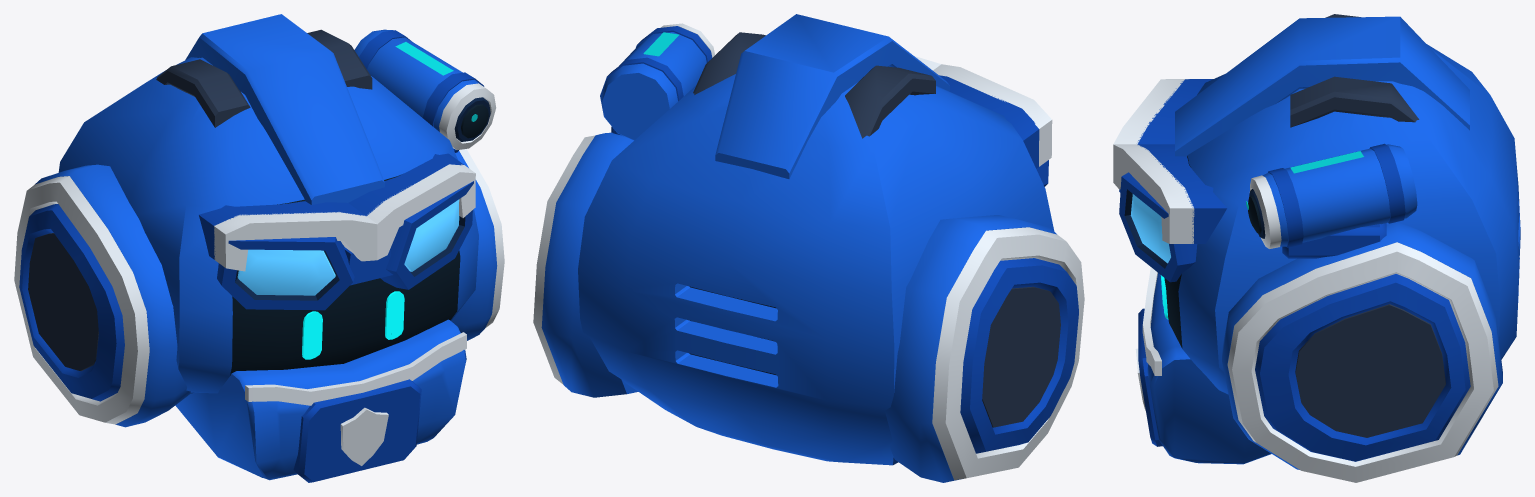
The model's file is copilot_security_v01.glb.
3 renders of one model, left to right at view 1: azimuth 30°, elevation 25°; view 2: azimuth 150°, elevation 25°; view 3: azimuth 270°, elevation 25°, orthographic. The views are drawn at different scales.
Visible parts, largest first — view 1: security_model; view 2: security_model; view 3: security_model.
Part boxes in pixels (x1,y1,x2,y2): security_model: (14, 14, 504, 482); security_model: (533, 14, 1084, 482); security_model: (1113, 14, 1520, 482).
Bounding box in the file's own units: 2.61 × 2.34 × 2.23.
Materials: 2 (2 with a texture image).
